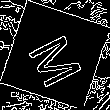M_NE: (22, 23, 88, 87)
